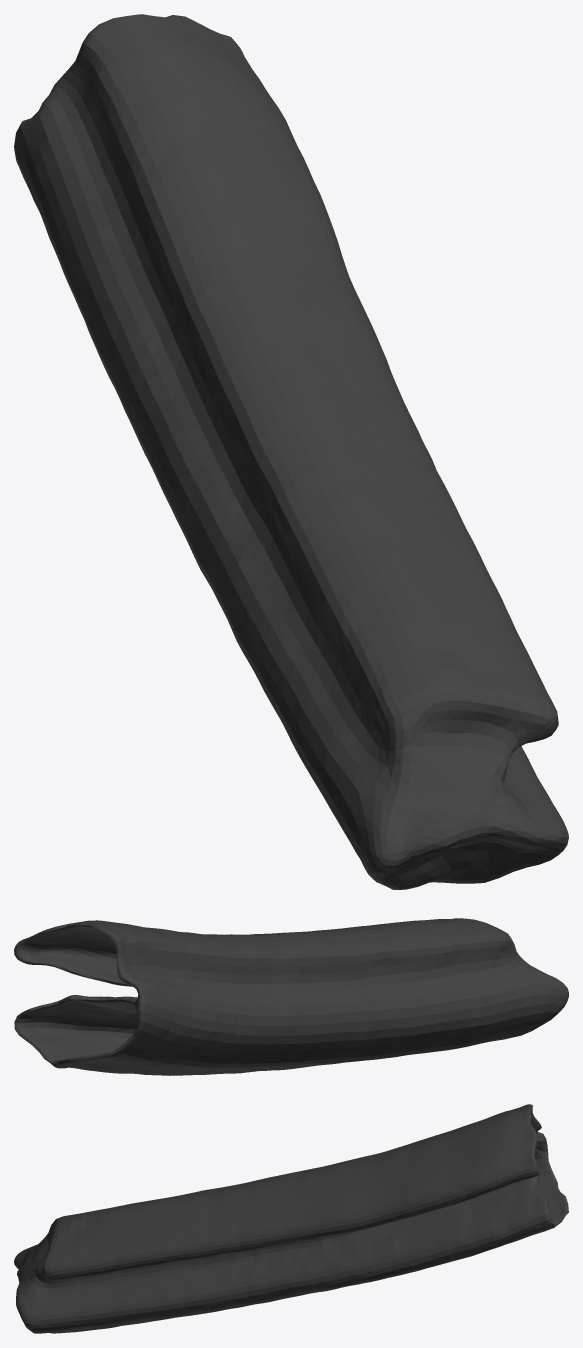
File: tooth_rabbit_309_low.glb
The picture shows the model from 3 angles, top to bottom: view 1: azimuth 30°, elevation 25°; view 2: azimuth 150°, elevation 25°; view 3: azimuth 270°, elevation 25°; orthographic projection. The views are drawn at different scales.
Visible parts, largest first — view 1: tooth_rabbit_309_low; view 2: tooth_rabbit_309_low; view 3: tooth_rabbit_309_low.
Boxes of the visible parts, left/top/right/bottom form: tooth_rabbit_309_low: left=14, top=14, right=568, bottom=889; tooth_rabbit_309_low: left=14, top=918, right=568, bottom=1075; tooth_rabbit_309_low: left=14, top=1104, right=568, bottom=1333.
Bounding box in the file's own units: 0.5625 × 0.7172 × 1.43.
Materials: 1 (1 with a texture image).
